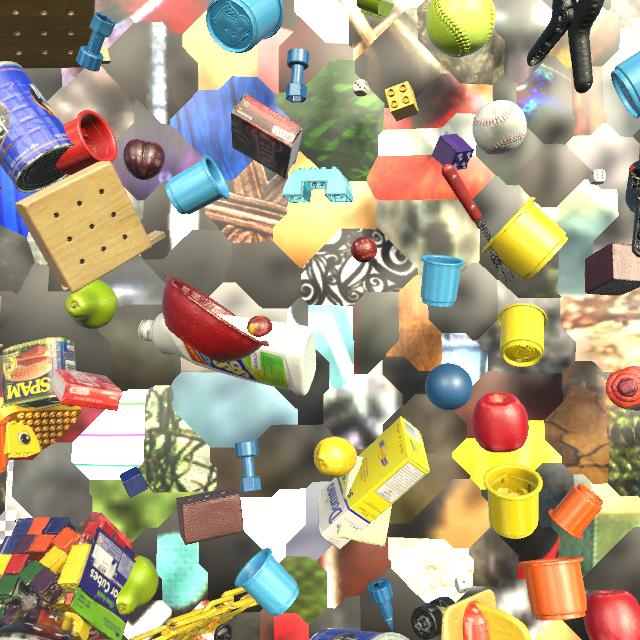ycb_002_master_chef_can: (0, 61, 74, 193), (309, 628, 409, 640)
ycb_004_sugar_box: (319, 416, 430, 549)
ycb_008_pudding_box: (231, 93, 303, 179)
ycb_009_gelatin_box: (52, 369, 122, 411), (0, 186, 2, 194)
ycb_010_potted_meat_can: (1, 337, 76, 410)
ycb_013_apple: (472, 392, 529, 453), (583, 590, 640, 640)
ycb_014_lemon: (314, 437, 357, 478)
ycb_016_pear: (65, 279, 118, 329), (116, 555, 159, 615)
ycb_018_plum: (123, 139, 165, 180)
